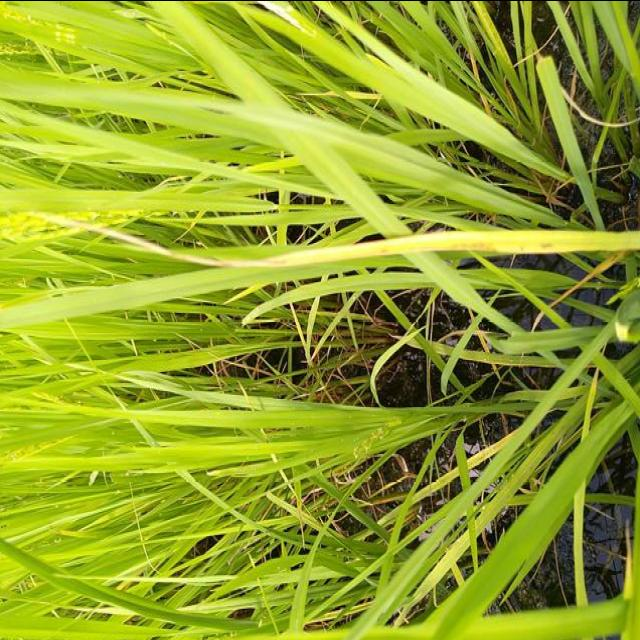Leaf Blight: (108, 226, 640, 277)
